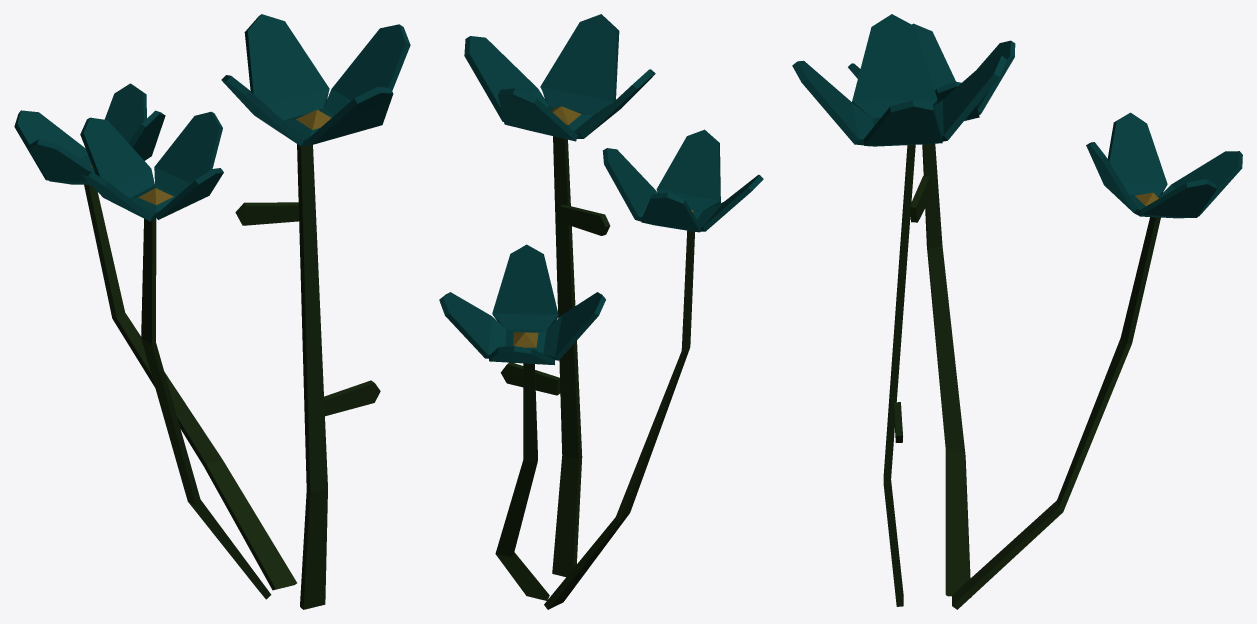
The model's file is Flowers.glb.
3 renders of one model, left to right at view 1: azimuth 30°, elevation 25°; view 2: azimuth 150°, elevation 25°; view 3: azimuth 270°, elevation 25°, orthographic. The views are drawn at different scales.
Visible parts, largest first — view 1: Flowers_Plane.029; view 2: Flowers_Plane.029; view 3: Flowers_Plane.029.
Part boxes in pixels (x1,y1,x2,y2): Flowers_Plane.029: (14, 14, 410, 609); Flowers_Plane.029: (439, 14, 763, 609); Flowers_Plane.029: (792, 14, 1242, 609).
Size of the model in its own units: 0.4895 by 0.8289 by 0.6137.
